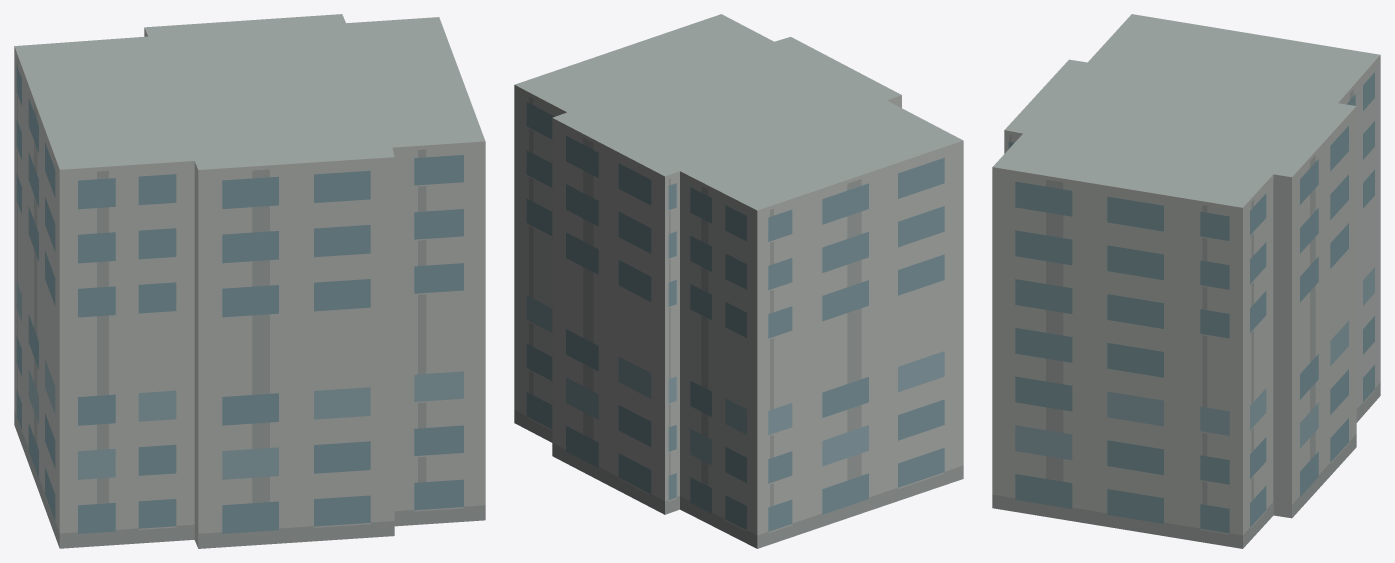
File: survey-upis-32892242.glb
3 renders of one model, left to right at view 1: azimuth 30°, elevation 25°; view 2: azimuth 150°, elevation 25°; view 3: azimuth 270°, elevation 25°, orthographic. The views are drawn at different scales.
Parts seen in each view (by area): view 1: survey-upis-32892242.tmp; view 2: survey-upis-32892242.tmp; view 3: survey-upis-32892242.tmp.
Part boxes in pixels (<box>): survey-upis-32892242.tmp: <box>14,14,485,548</box>; survey-upis-32892242.tmp: <box>514,14,963,548</box>; survey-upis-32892242.tmp: <box>992,14,1380,548</box>.
Bounding box in the file's own units: 27.19 × 22.3 × 23.
